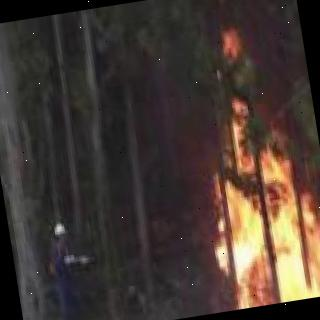fire: (129, 130, 320, 320)
